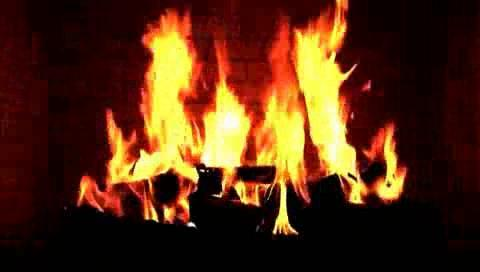fire: (108, 22, 392, 204)
